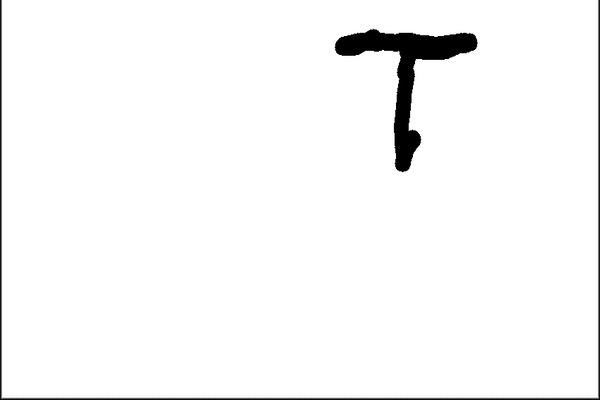T: (327, 20, 481, 171)
